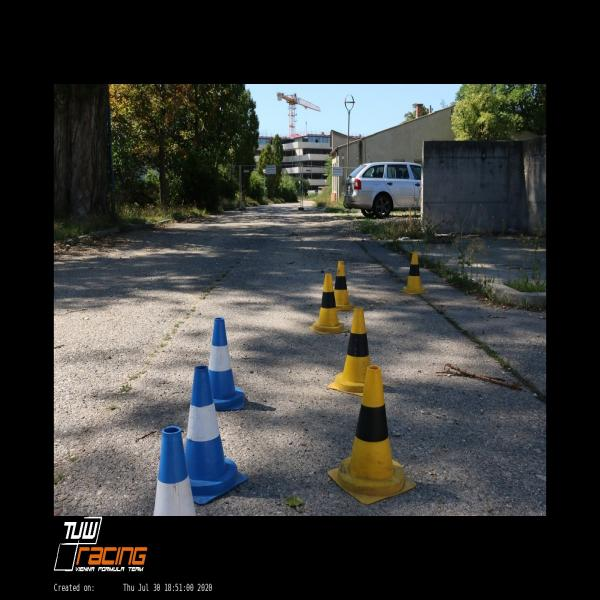blue_cone: (168, 366, 248, 504), (198, 317, 245, 411), (153, 426, 197, 515)
yellow_cone: (328, 366, 417, 504), (328, 307, 386, 397), (309, 273, 348, 334), (327, 261, 356, 311), (400, 252, 429, 294)
